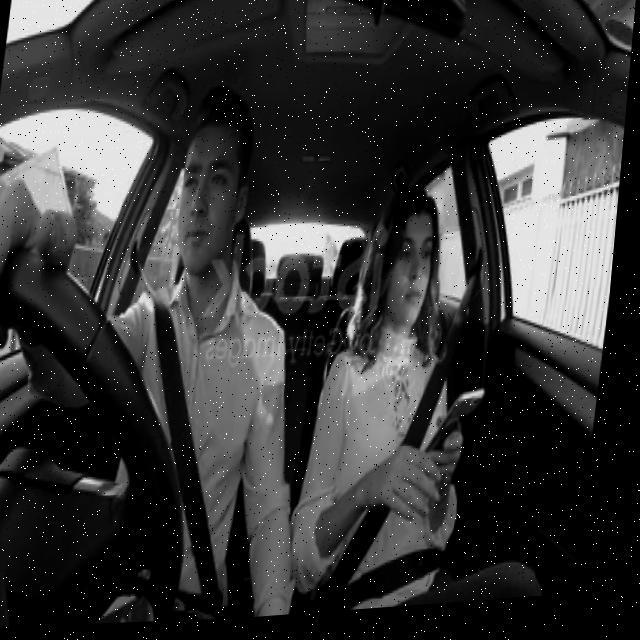PhoneCall: (430, 390, 496, 478)
